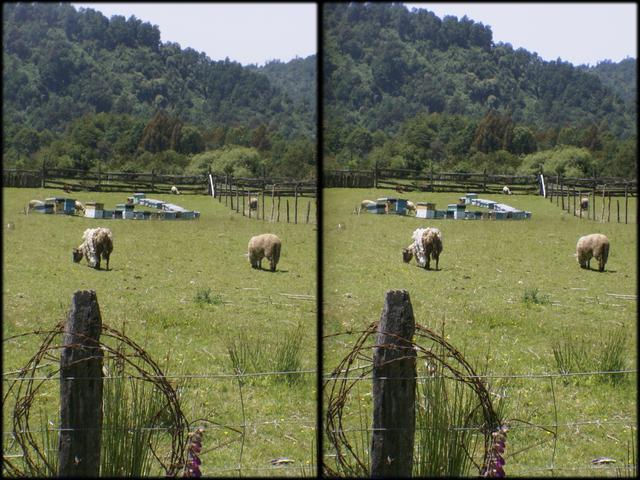sheep: (562, 224, 627, 273), (238, 223, 286, 278)
